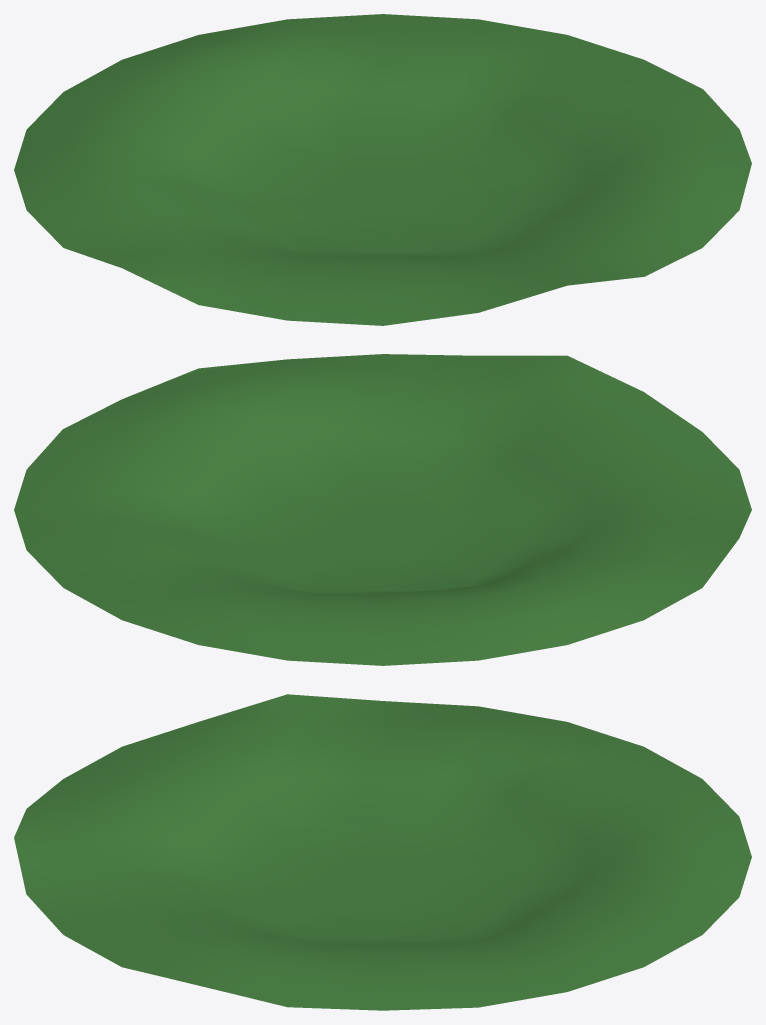
File: AgeGrassFBX.fbx
3 views of the same model, one above another, from view 1: azimuth 30°, elevation 25°; view 2: azimuth 150°, elevation 25°; view 3: azimuth 270°, elevation 25° (orthographic).
Parts seen in each view (by area): view 1: pDisc1; view 2: pDisc1; view 3: pDisc1.
Boxes of the visible parts, x1,y1,x2,y2 form: pDisc1: [14, 14, 751, 325]; pDisc1: [14, 354, 751, 665]; pDisc1: [14, 694, 751, 1010].
Size of the model in its own units: 1842 by 118 by 1840.
